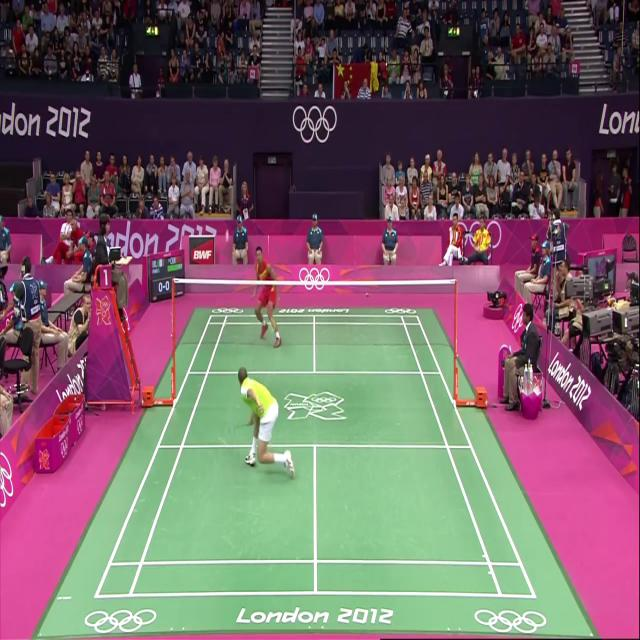Net: (174, 278, 458, 379)
Player1: (231, 328, 344, 529)
Player2: (216, 230, 282, 361)
Shuttlecock: (237, 204, 255, 229)
